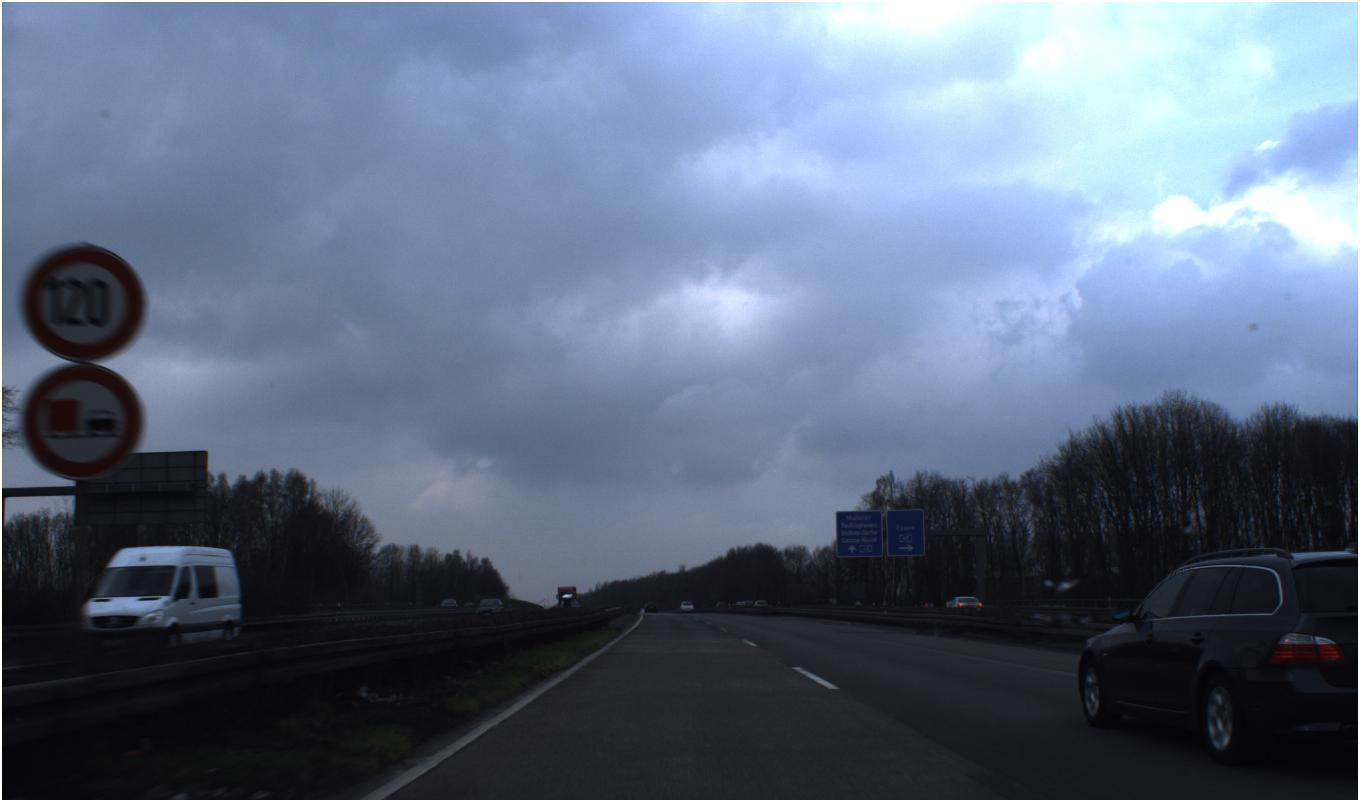prohibitory: (22, 242, 145, 362), (23, 362, 142, 480)
